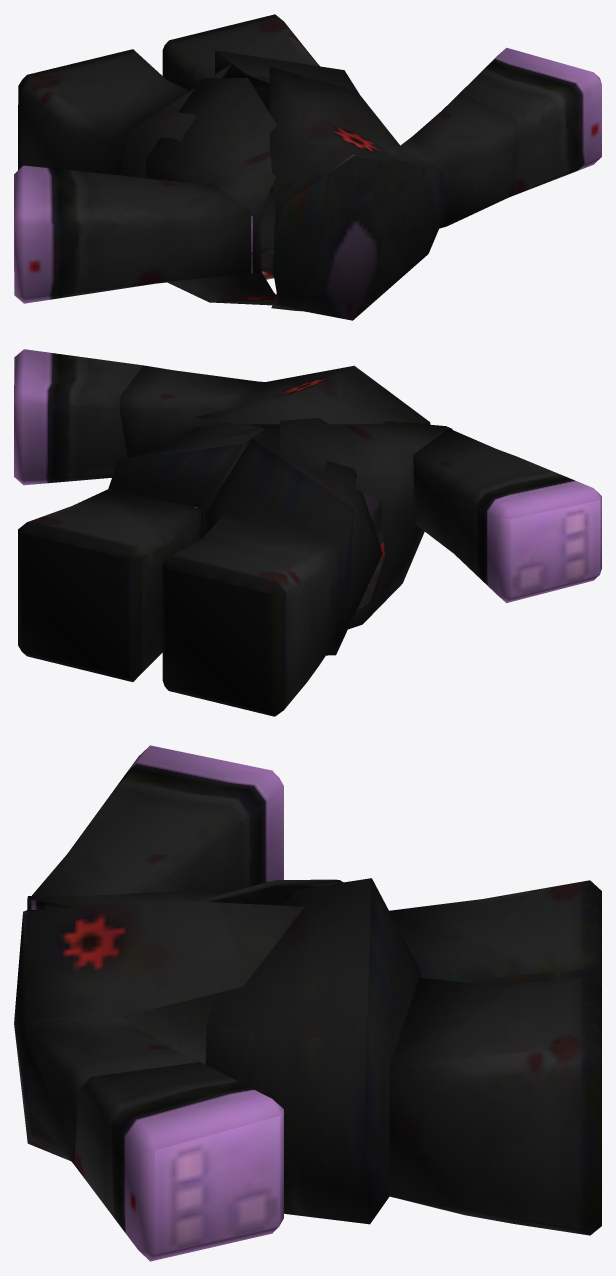
File: Zombie_Broken_Normal_Body_1b1d890b__Zombie_Normal_Purple_0bff28be_c1f257.obj
3 renders of one model, top to bottom at view 1: azimuth 30°, elevation 25°; view 2: azimuth 150°, elevation 25°; view 3: azimuth 270°, elevation 25°, orthographic. The views are drawn at different scales.
Size of the model in its own units: 1.41 by 0.504 by 0.882.
Materials: 1 (1 with a texture image).
